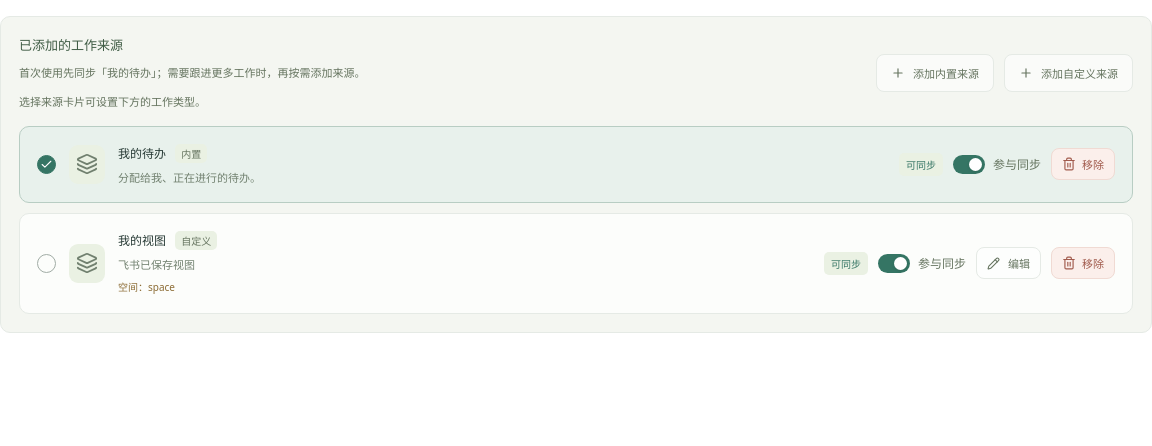
Test: 移除需确认，失败保留来源并允许重试
The image size is (1152, 446).
Click the button with aria-label "移除我的待办" at (1083, 164), box [1051, 148, 1115, 180]
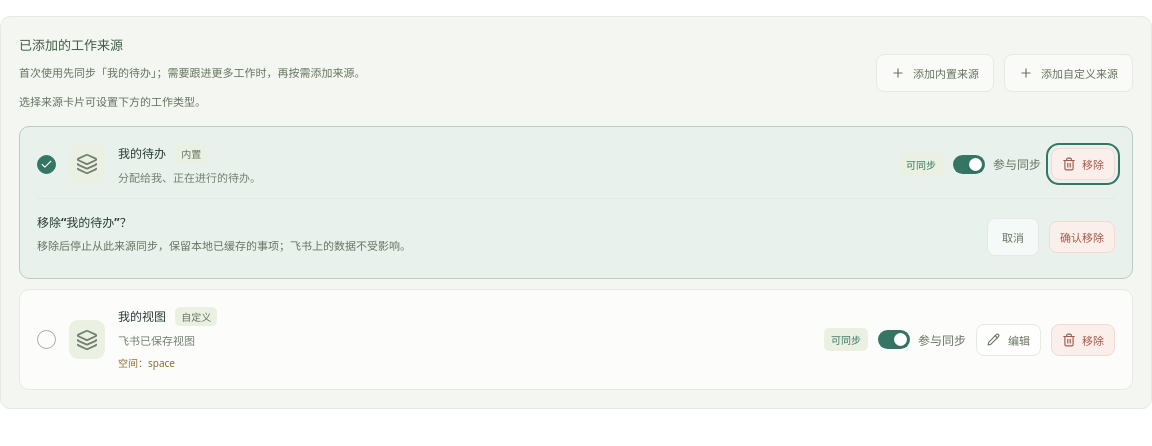
Click the button "确认移除" at (1082, 237), box [1049, 221, 1115, 253]
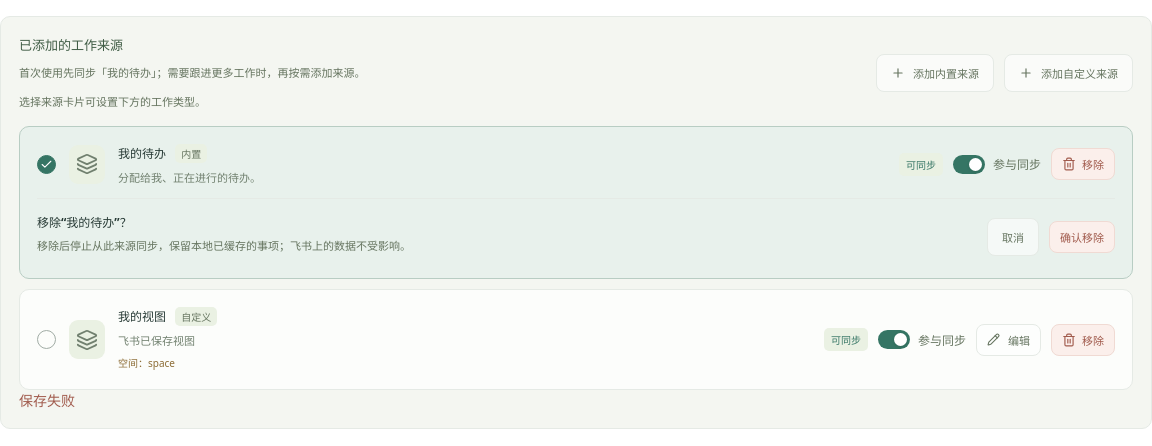
Check: the message reads "保存失败", box [19, 391, 75, 410]
Click the button "确认移除" at (1082, 237), box [1049, 221, 1115, 253]
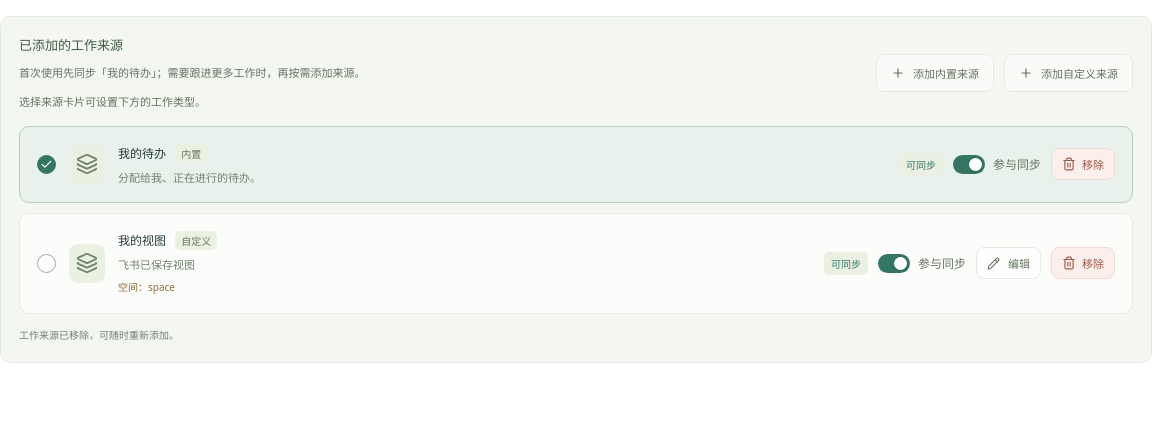
Check: the button "确认移除" is gone
